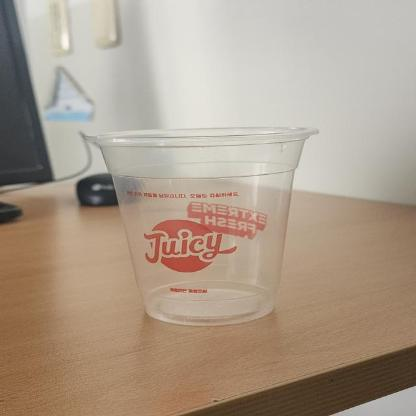Plastic Cup: (80, 123, 318, 325)
